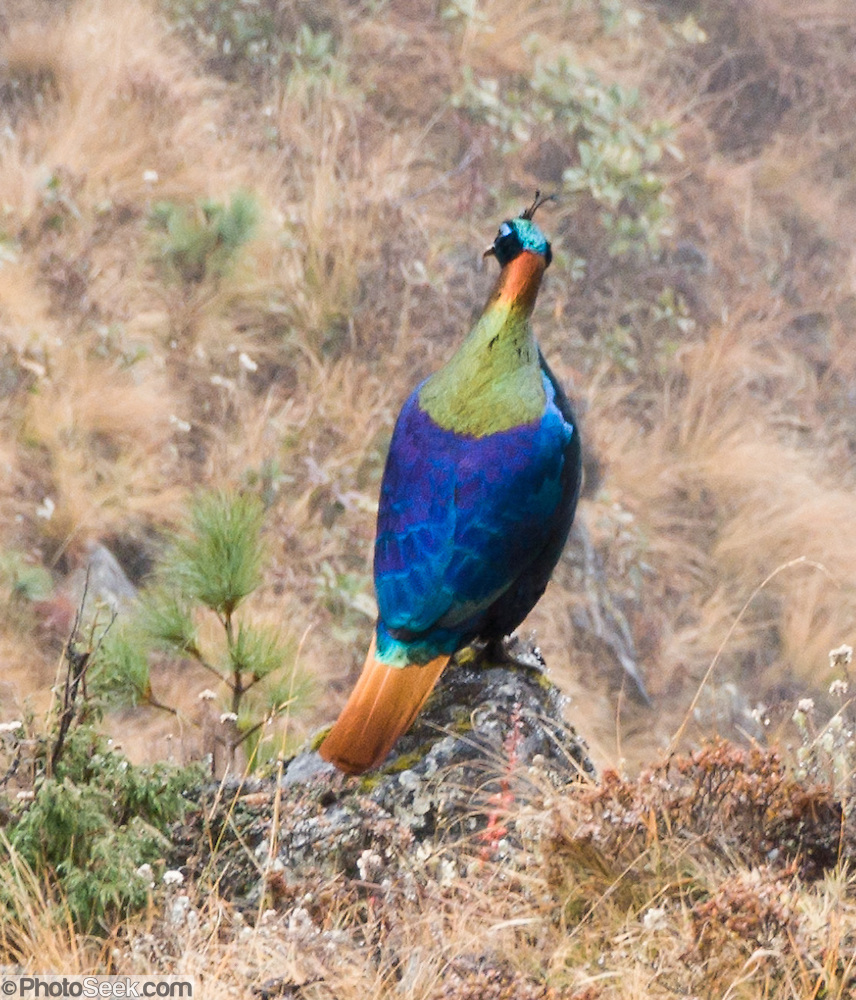bird: (290, 182, 610, 795)
